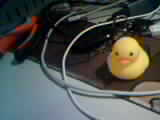duck: (97, 33, 148, 75)
